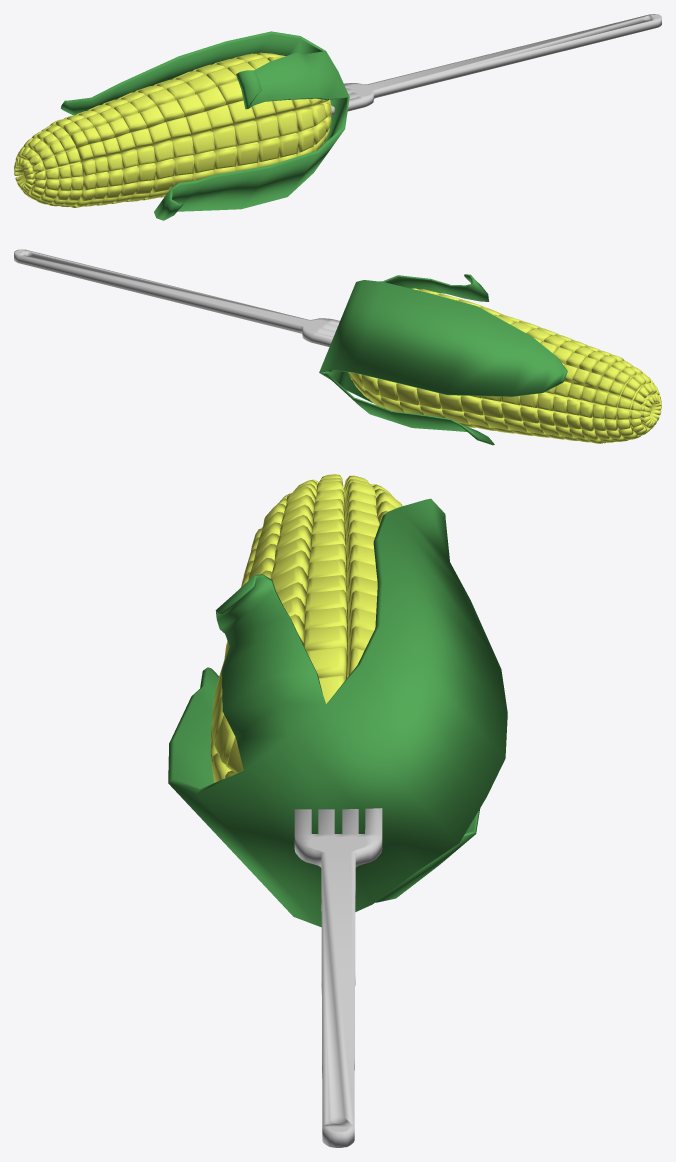
The model's file is CornArrow.fbx.
The picture shows the model from 3 angles, top to bottom: view 1: azimuth 30°, elevation 25°; view 2: azimuth 150°, elevation 25°; view 3: azimuth 270°, elevation 25°; orthographic projection. The views are drawn at different scales.
Visible parts, largest first — view 1: Corn, Plane, Tenedor; view 2: Plane, Corn, Tenedor; view 3: Plane, Corn, Tenedor.
Boxes of the visible parts, x1=… form: Corn: x1=14, y1=52, x2=331, y2=207; Plane: x1=60, y1=31, x2=349, y2=220; Tenedor: x1=331, y1=14, x2=661, y2=115; Plane: x1=319, y1=274, x2=567, y2=445; Corn: x1=348, y1=288, x2=661, y2=443; Tenedor: x1=14, y1=249, x2=339, y2=346; Plane: x1=168, y1=498, x2=507, y2=927; Corn: x1=210, y1=474, x2=402, y2=782; Tenedor: x1=294, y1=808, x2=382, y2=1147.
Size of the model in its own units: 903 by 201 by 207.
